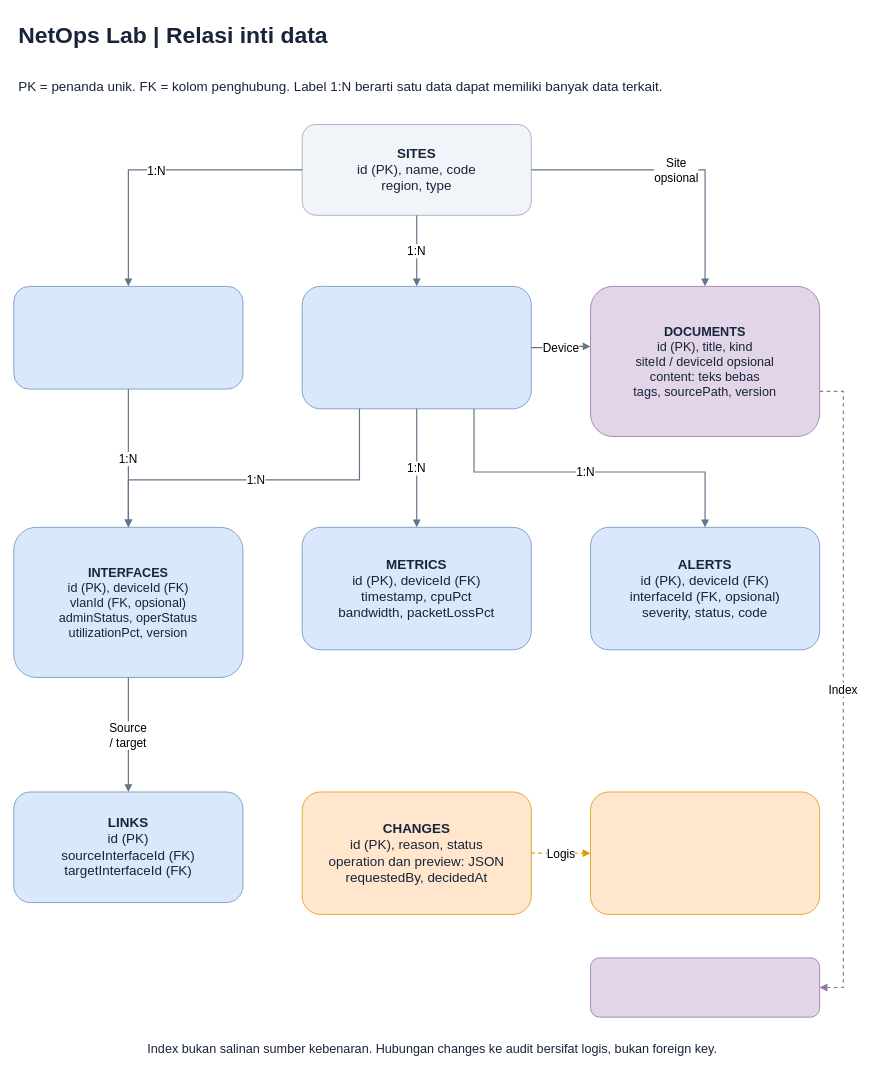
The diagram is 871 pixels wide and 1078 high, and some of its shapes have lost their labels. The centre of each missing label's shape, as x and y in pixels:
"AUDIT id (PK), timestamp actor, action, targetId detail" belongs at pixel 705 852.
"DEVICES id (PK), siteId (FK) hostname / managementIp unik status, version" belongs at pixel 416 347.
"DOCUMENTS_FTS Index title / content / tags" belongs at pixel 705 987.
"VLANS id (PK), siteId (FK) number, name, subnet" belongs at pixel 128 337.
